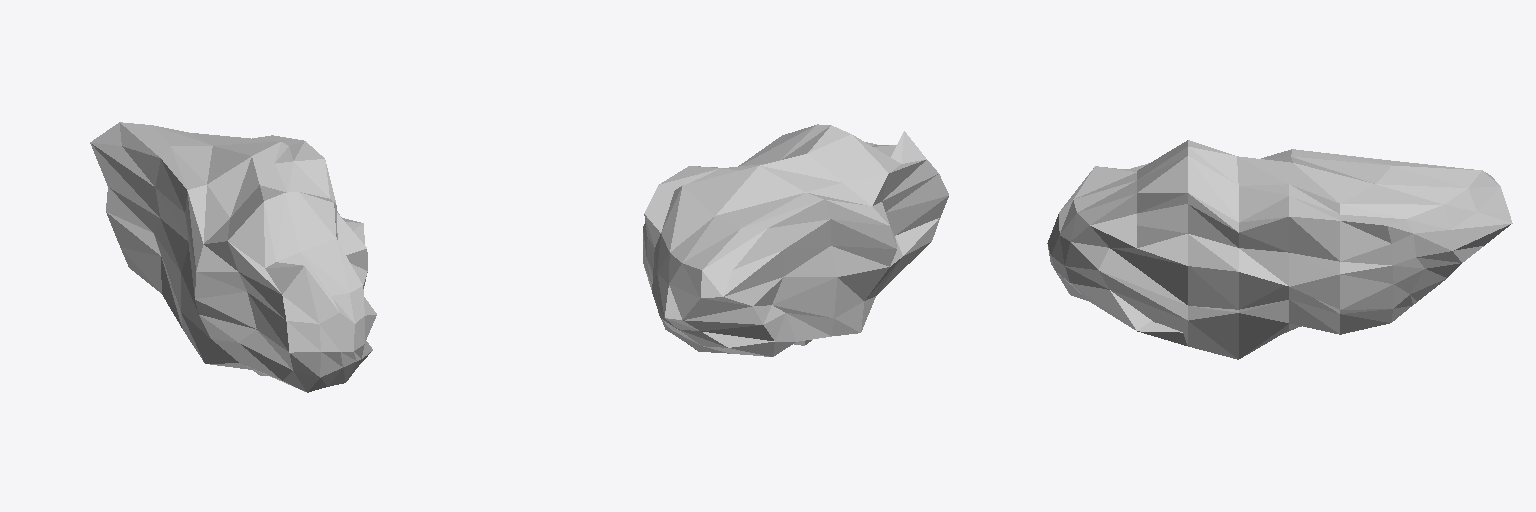
Rendered from cloud1.obj.
3 renders of one model, left to right at view 1: azimuth 30°, elevation 25°; view 2: azimuth 150°, elevation 25°; view 3: azimuth 270°, elevation 25°, orthographic.
Visible parts, largest first — view 1: Cube_Cube.002; view 2: Cube_Cube.002; view 3: Cube_Cube.002.
Part boxes in pixels (x1,y1,x2,y2): Cube_Cube.002: (90, 122, 376, 392); Cube_Cube.002: (643, 124, 948, 356); Cube_Cube.002: (1047, 140, 1512, 359).
Bounding box in the file's own units: 2.21 × 2.24 × 4.67.